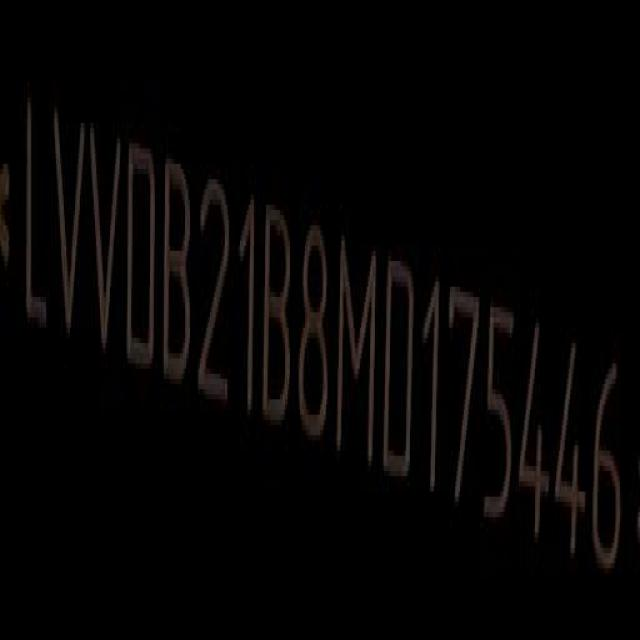1: (419, 269, 442, 500), (236, 192, 257, 419)
2: (201, 179, 234, 410)
4: (553, 332, 589, 569), (521, 322, 556, 554)
5: (483, 292, 515, 526)
6: (594, 352, 626, 579)
7: (446, 276, 480, 516)
8: (300, 216, 331, 439)
B: (261, 200, 294, 428), (163, 153, 194, 390)
D: (384, 253, 420, 486), (126, 135, 160, 373)
L: (23, 93, 51, 334)
M: (336, 230, 382, 468)
V: (89, 116, 126, 364), (51, 103, 86, 350)
